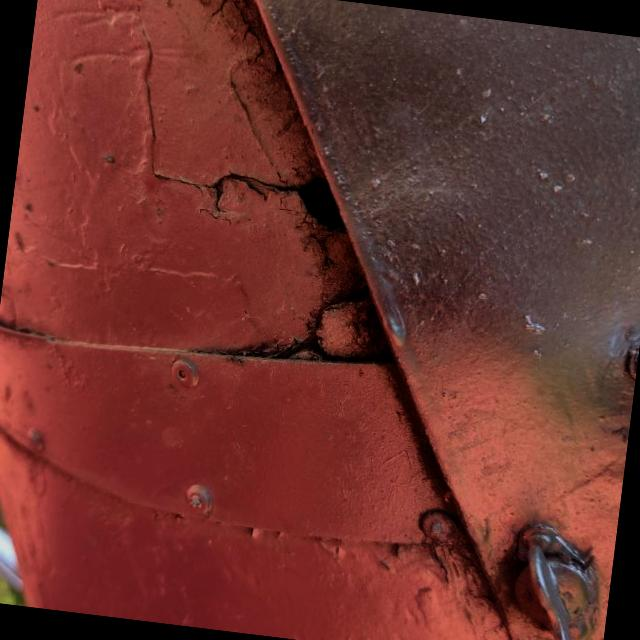crack: (192, 142, 378, 258)
